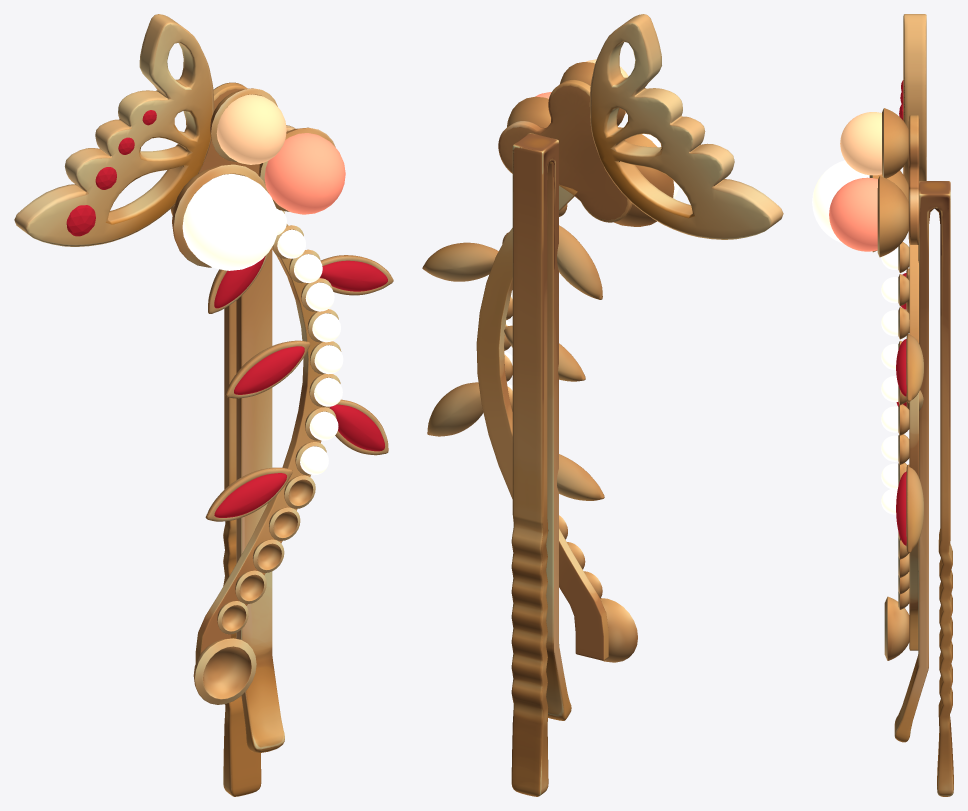
The picture shows the model from 3 angles, left to right: view 1: azimuth 30°, elevation 25°; view 2: azimuth 150°, elevation 25°; view 3: azimuth 270°, elevation 25°; orthographic projection. The views are drawn at different scales.
Parts seen in each view (by area): view 1: hairakuse; view 2: hairakuse; view 3: hairakuse.
Boxes of the visible parts, x1,y1,x2,y2 form: hairakuse: (14,14,393,796); hairakuse: (422,14,783,796); hairakuse: (812,14,953,796).
Bounding box in the file's own units: 72.64 × 152 × 26.6.
